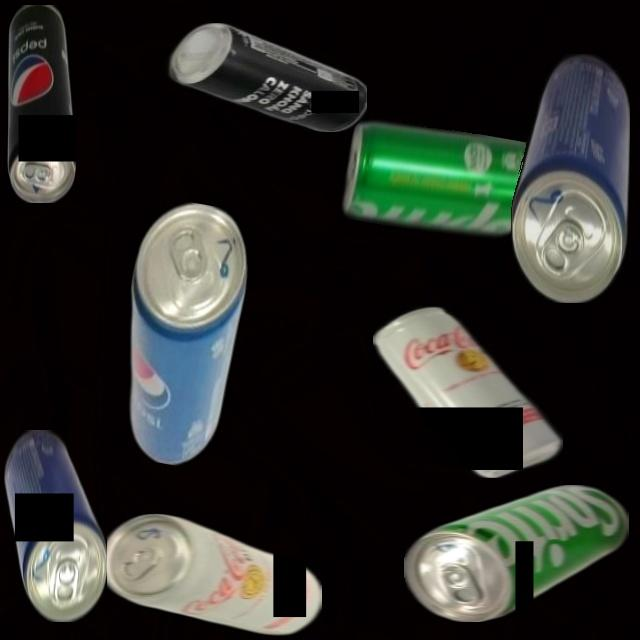debris: (101, 195, 259, 472), (373, 305, 563, 478), (404, 484, 629, 622), (510, 53, 630, 303), (338, 113, 540, 249), (101, 512, 322, 636), (158, 23, 367, 132), (3, 429, 107, 622), (6, 4, 76, 203)
